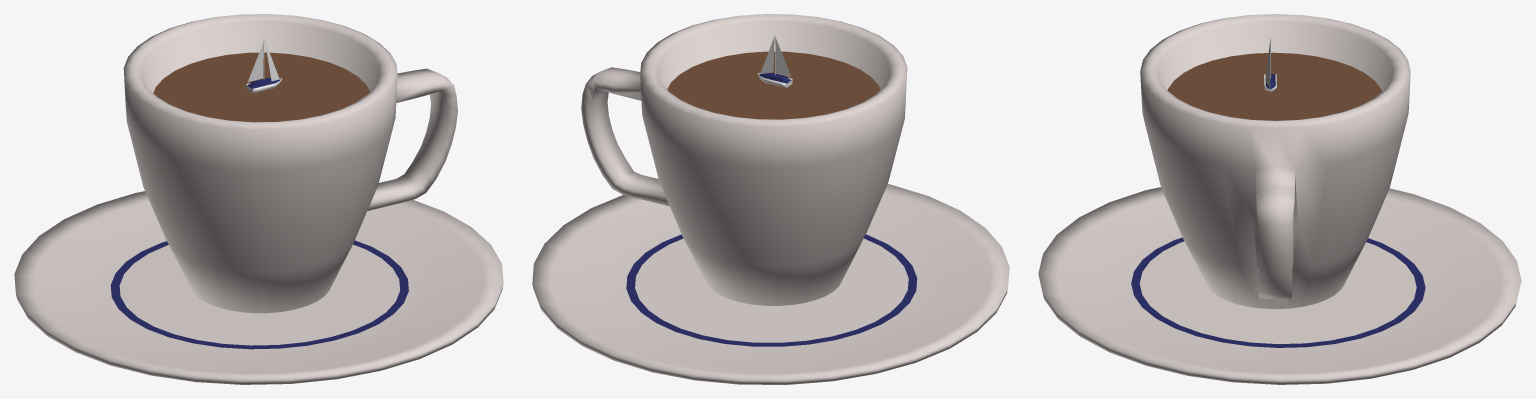
File: coffeecup.glb
3 views of the same model, side by side, from view 1: azimuth 30°, elevation 25°; view 2: azimuth 150°, elevation 25°; view 3: azimuth 270°, elevation 25° (orthographic). The views are drawn at different scales.
Visible parts, largest first — view 1: cup, plate, coffee, boat; view 2: plate, cup, coffee, boat; view 3: plate, cup, coffee.
Part boxes in pixels (<box>): cup: <box>123,14,457,313</box>; plate: <box>14,191,503,384</box>; coffee: <box>153,52,369,122</box>; boat: <box>246,39,282,93</box>; plate: <box>532,184,1009,384</box>; cup: <box>581,14,907,305</box>; coffee: <box>667,51,880,119</box>; boat: <box>757,35,792,87</box>; plate: <box>1038,187,1521,384</box>; cup: <box>1140,14,1410,309</box>; coffee: <box>1167,52,1381,120</box>.
Size of the model in its own units: 7.94 by 4.79 by 7.94.
